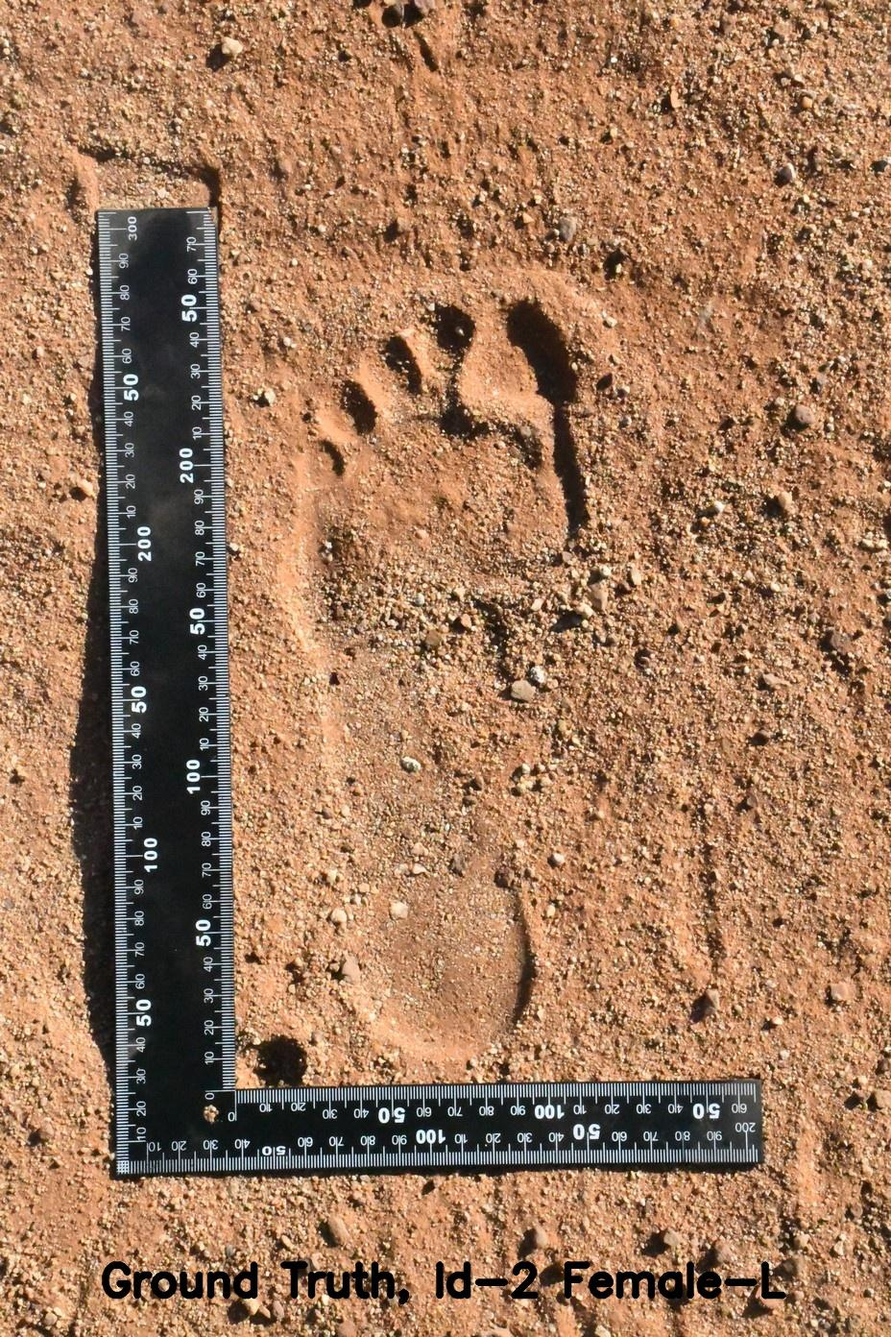human_footprint: (273, 228, 657, 1079)
